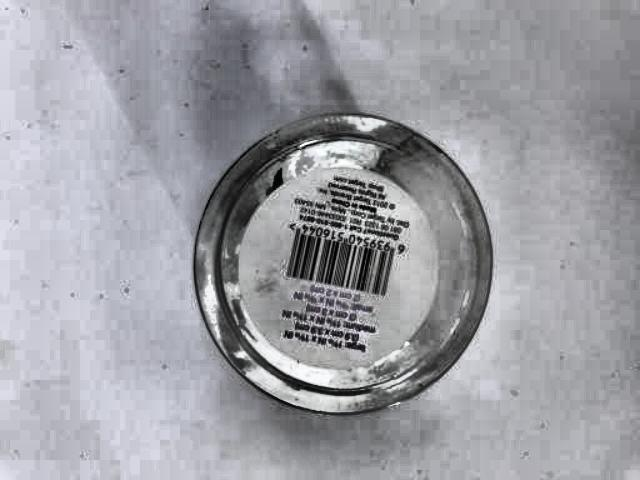Plastic: (187, 102, 508, 420)
